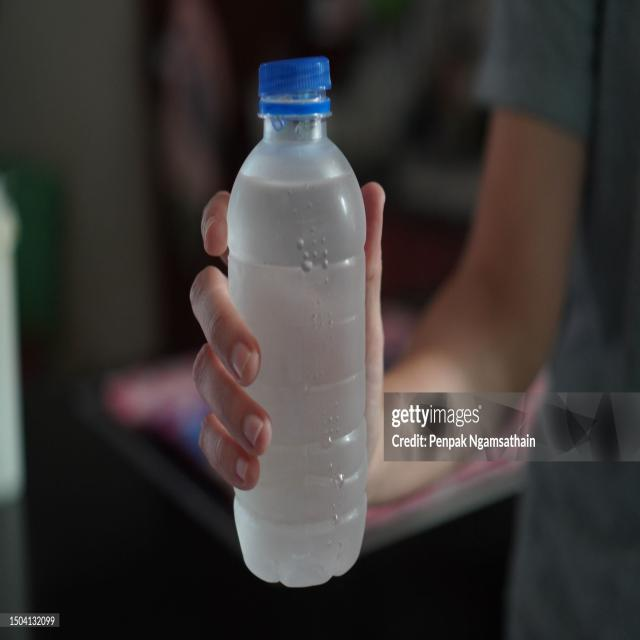bottle: (225, 49, 370, 590)
